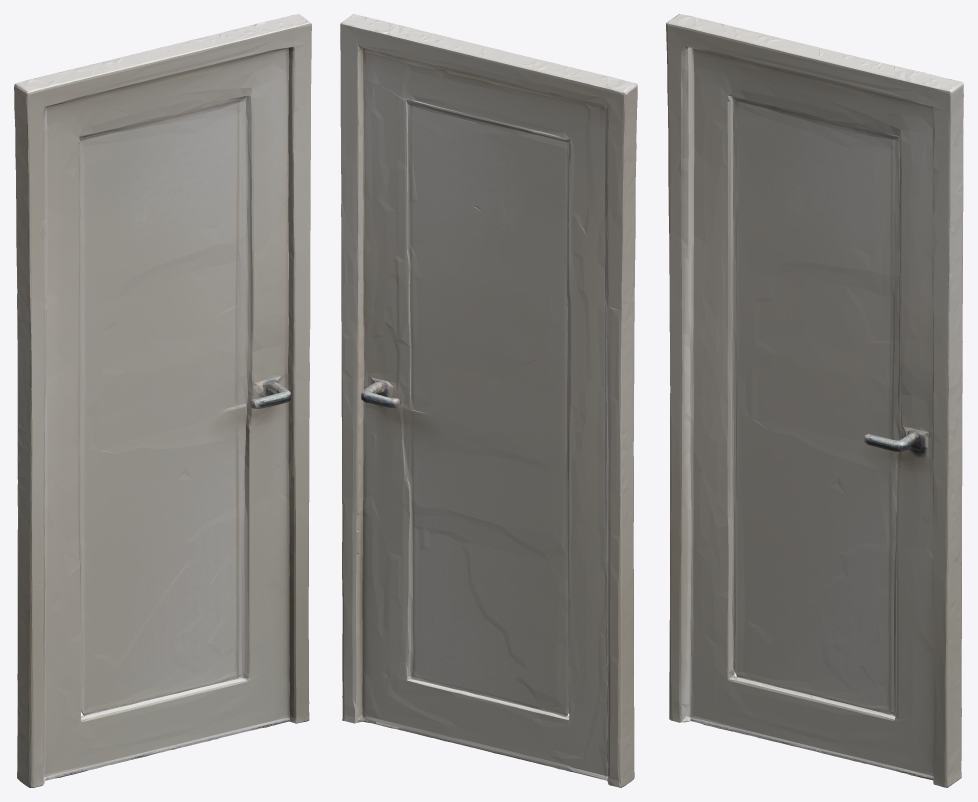
3 renders of one model, left to right at view 1: azimuth 30°, elevation 25°; view 2: azimuth 150°, elevation 25°; view 3: azimuth 330°, elevation 25°, orthographic.
Visible parts, largest first — view 1: world; view 2: world; view 3: world.
Boxes of the visible parts, x1,y1,x2,y2 form: world: (14, 14, 311, 787); world: (340, 14, 637, 787); world: (666, 14, 963, 787).
Size of the model in its own units: 0.4297 by 1 by 0.1179.
Materials: 1 (1 with a texture image).
